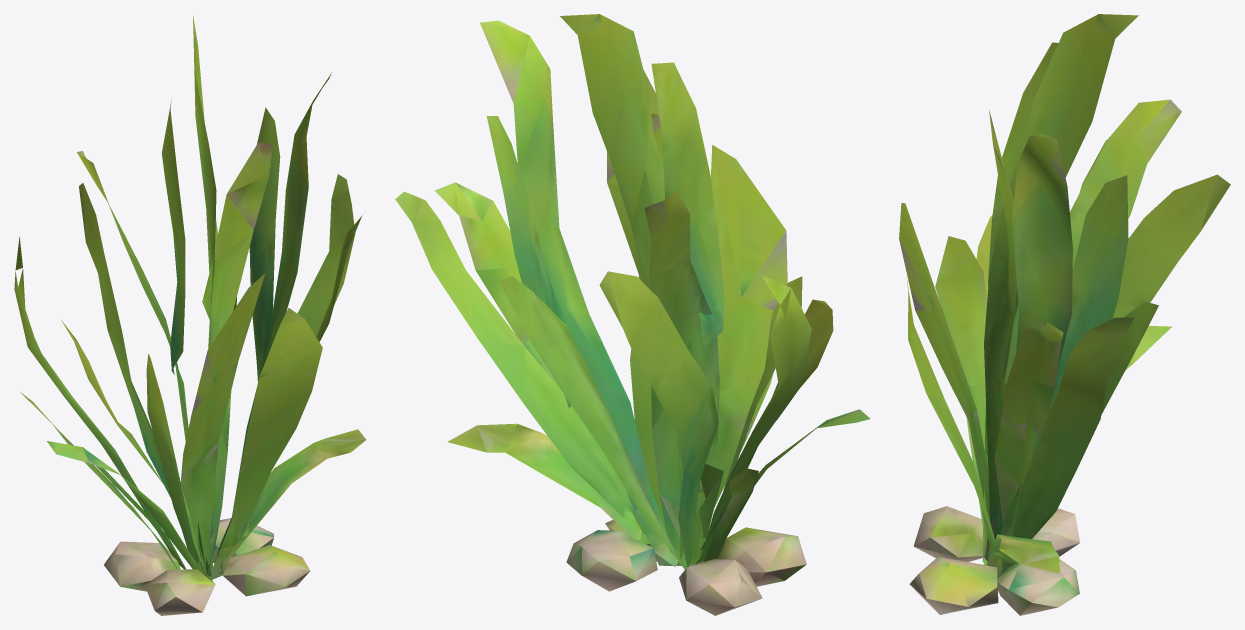
File: alga_0.glb
The picture shows the model from 3 angles, left to right: view 1: azimuth 30°, elevation 25°; view 2: azimuth 150°, elevation 25°; view 3: azimuth 270°, elevation 25°; orthographic projection. The views are drawn at different scales.
Visible parts, largest first — view 1: alga_0_malla; view 2: alga_0_malla; view 3: alga_0_malla.
Part boxes in pixels (x1,y1,x2,y2): alga_0_malla: [14, 16, 366, 615]; alga_0_malla: [395, 14, 870, 615]; alga_0_malla: [899, 14, 1230, 615].
Bounding box in the file's own units: 0.1779 × 0.2545 × 0.1289.
Materials: 1 (1 with a texture image).
